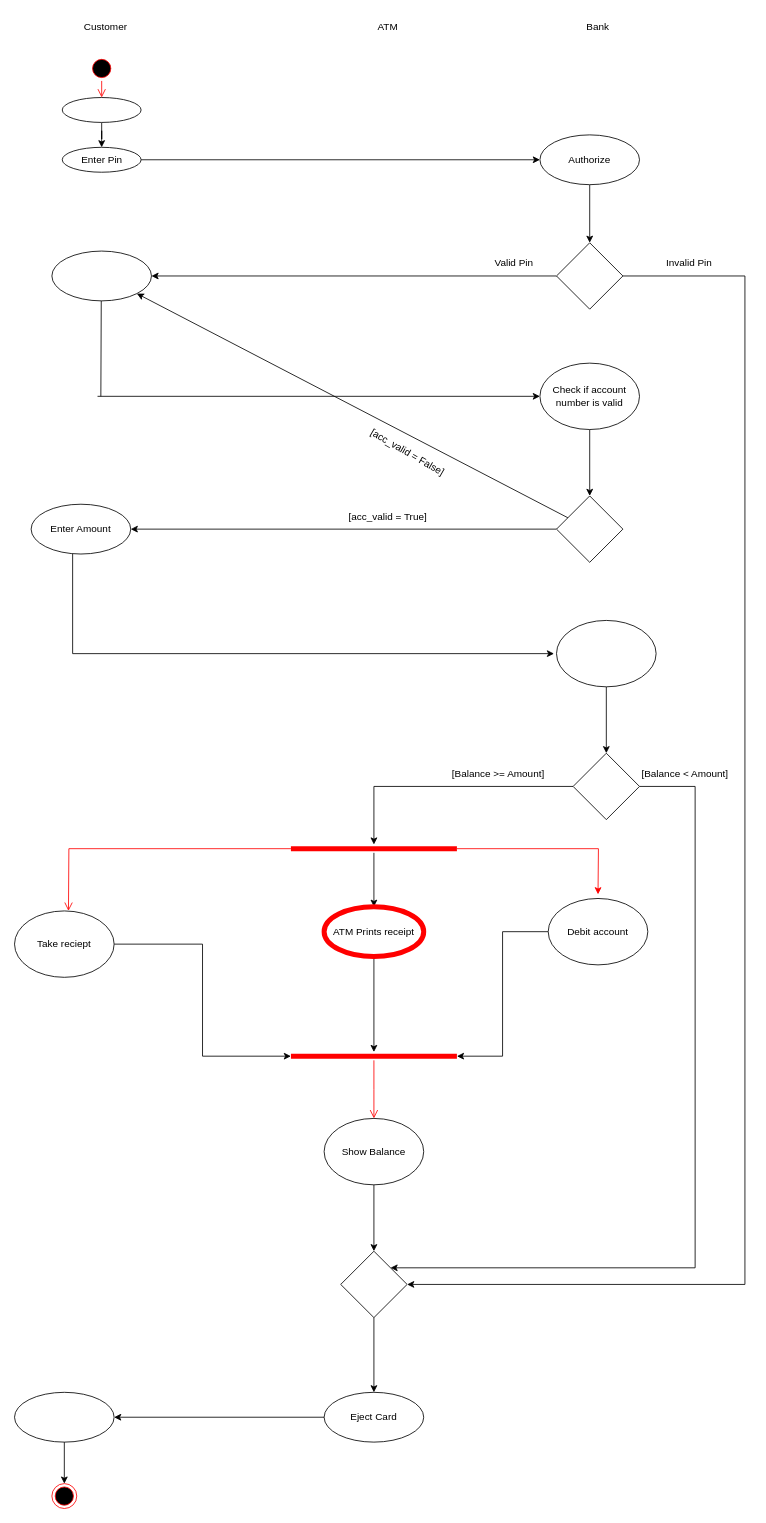
Some shapes in this 766 by 1523 pixel diagram are drawn without their labels. Each missing label, with the centre of its shape:
"Check account balance" belongs at [606,653].
"Enter Account Number" belongs at [101,275].
"Insert Card" belongs at [101,109].
"Take Card" belongs at [64,1416].
